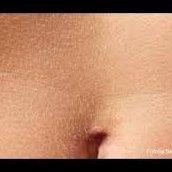Goosebumps: (0, 14, 171, 157)
